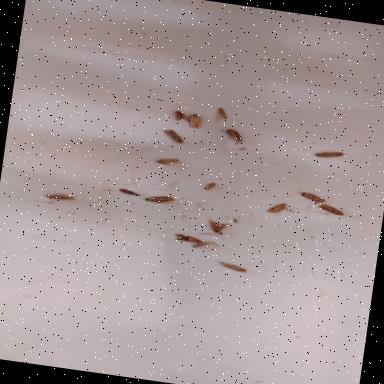pbw: (218, 128, 243, 146), (315, 202, 344, 216), (266, 200, 291, 216), (314, 147, 344, 160), (298, 190, 326, 203), (144, 192, 174, 204), (160, 128, 184, 142), (185, 111, 204, 128), (206, 218, 227, 233), (218, 261, 246, 272), (172, 232, 199, 242), (45, 192, 74, 200), (156, 156, 178, 166), (213, 105, 228, 119), (191, 238, 211, 248), (170, 108, 184, 120), (202, 181, 214, 190)
